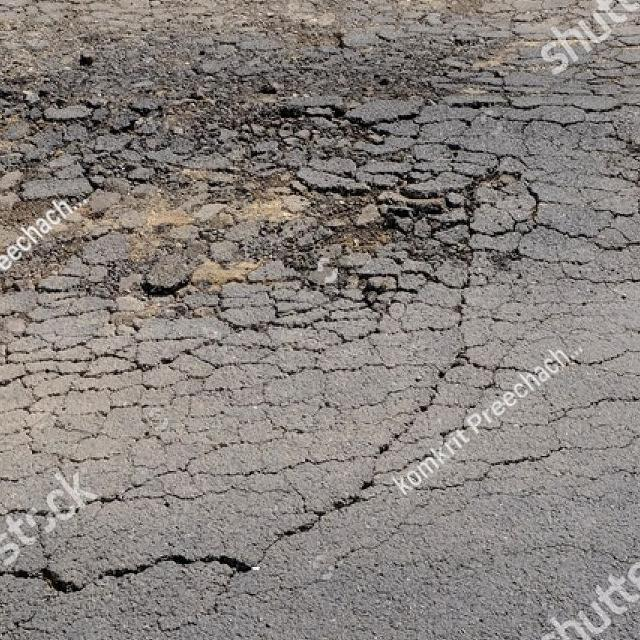retak_kulit_buaya: (64, 81, 452, 478), (506, 87, 640, 481), (0, 0, 538, 61)
